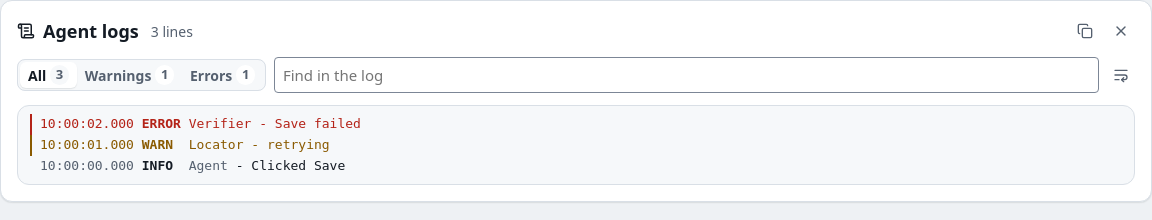
Test: LogTail filters › shows only the lines with the text and marks it
Type "save" into the search field labelled "Find in the log".
click(686, 75); type("save")  # box [274,57,1099,93]
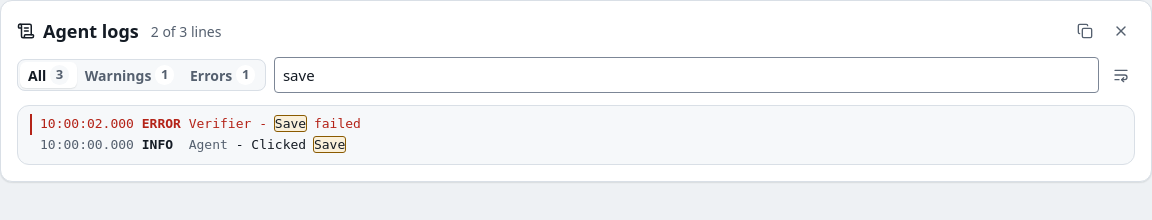
Expected: the text "2 of 3 lines" is shown, [151,20,222,42]
